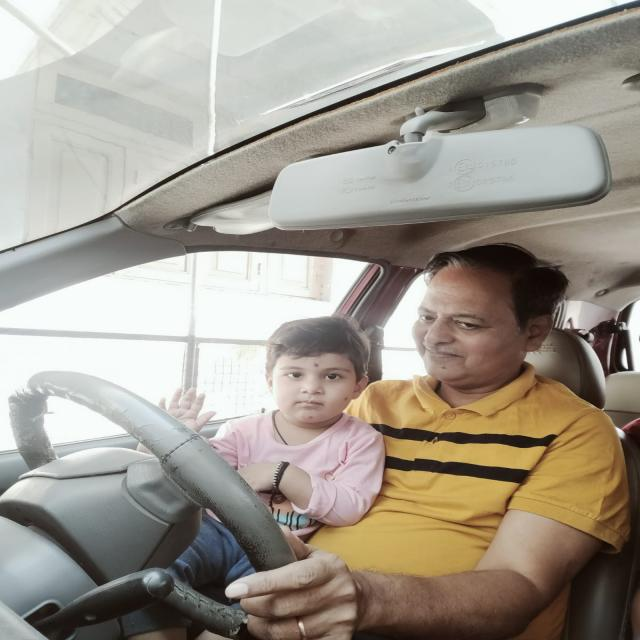child: (260, 314, 368, 422)
person: (402, 250, 560, 383)
